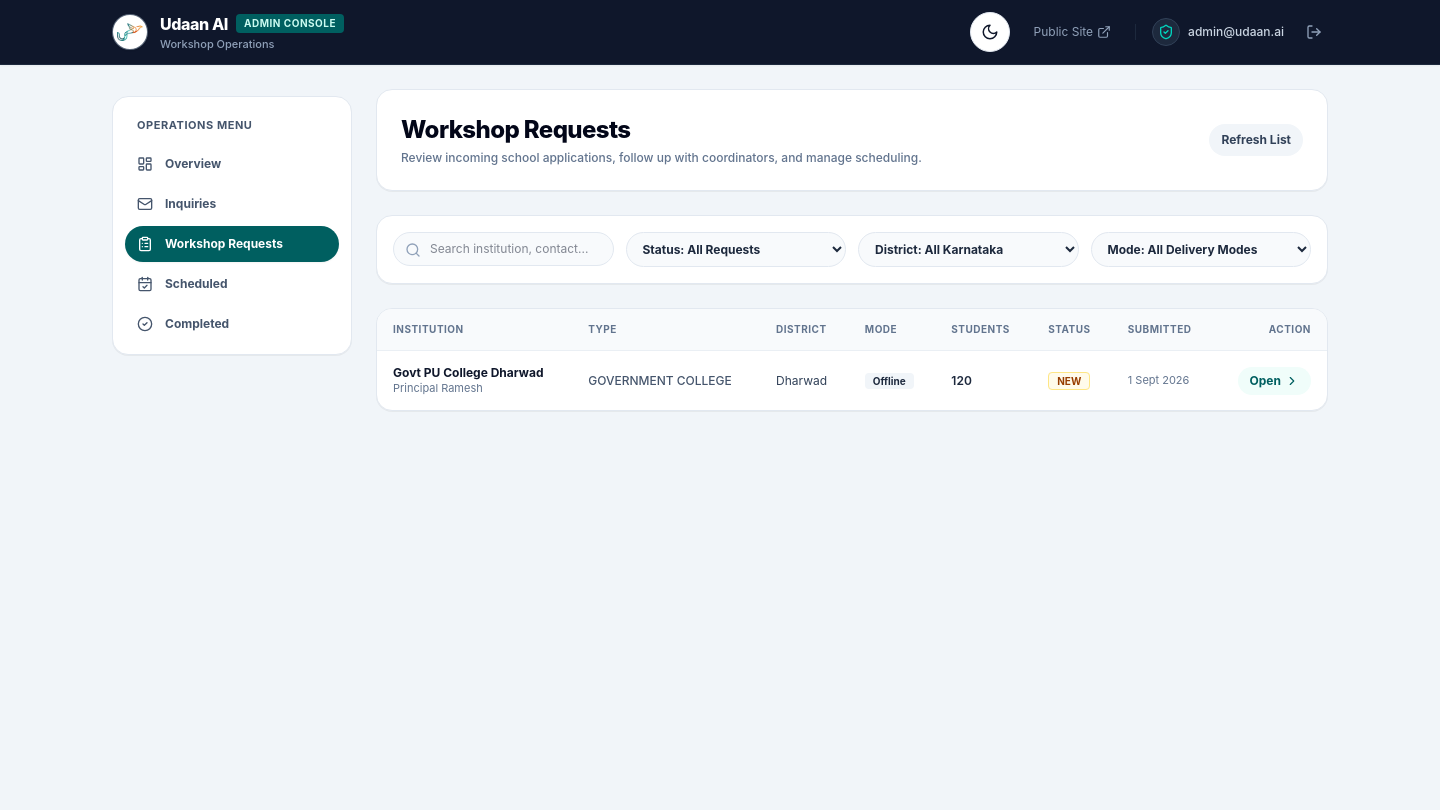
Test case: AdminRequestsPage › Reconciliation matching backend filters (preferred_mode and search) › mode filters on preferred_mode, not schedule.mode
Expected: the text "Govt PU College Dharwad" is shown, [393,365,556,381]
Note: Change mode filter to offline
Select "Offline (In-Person)" in the 3rd dropdown showing "Mode: All Delivery Modes" at (1201, 250), box [1090,232,1311,267]
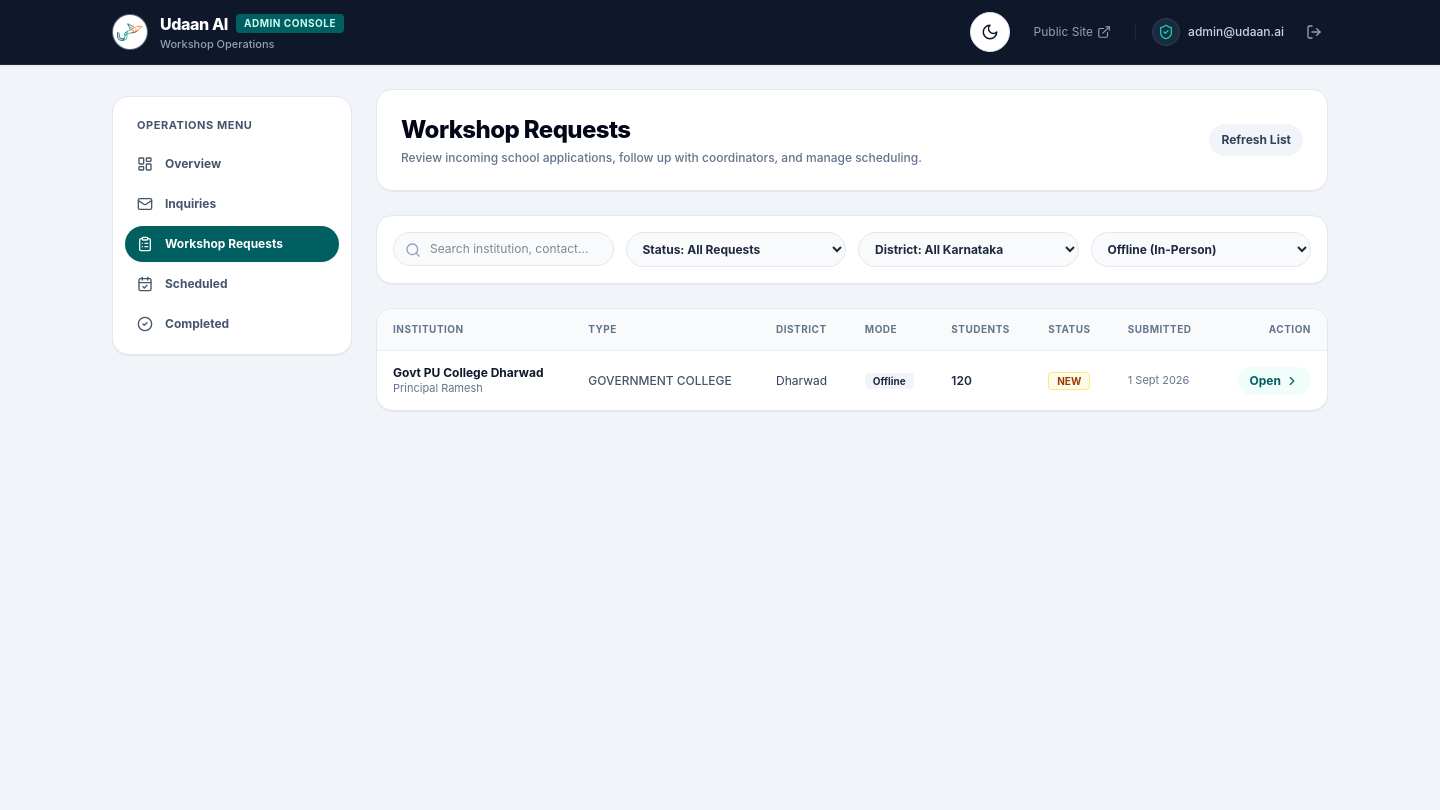
Click the button "Open".
click(1274, 381)  # box [1238,367,1311,395]
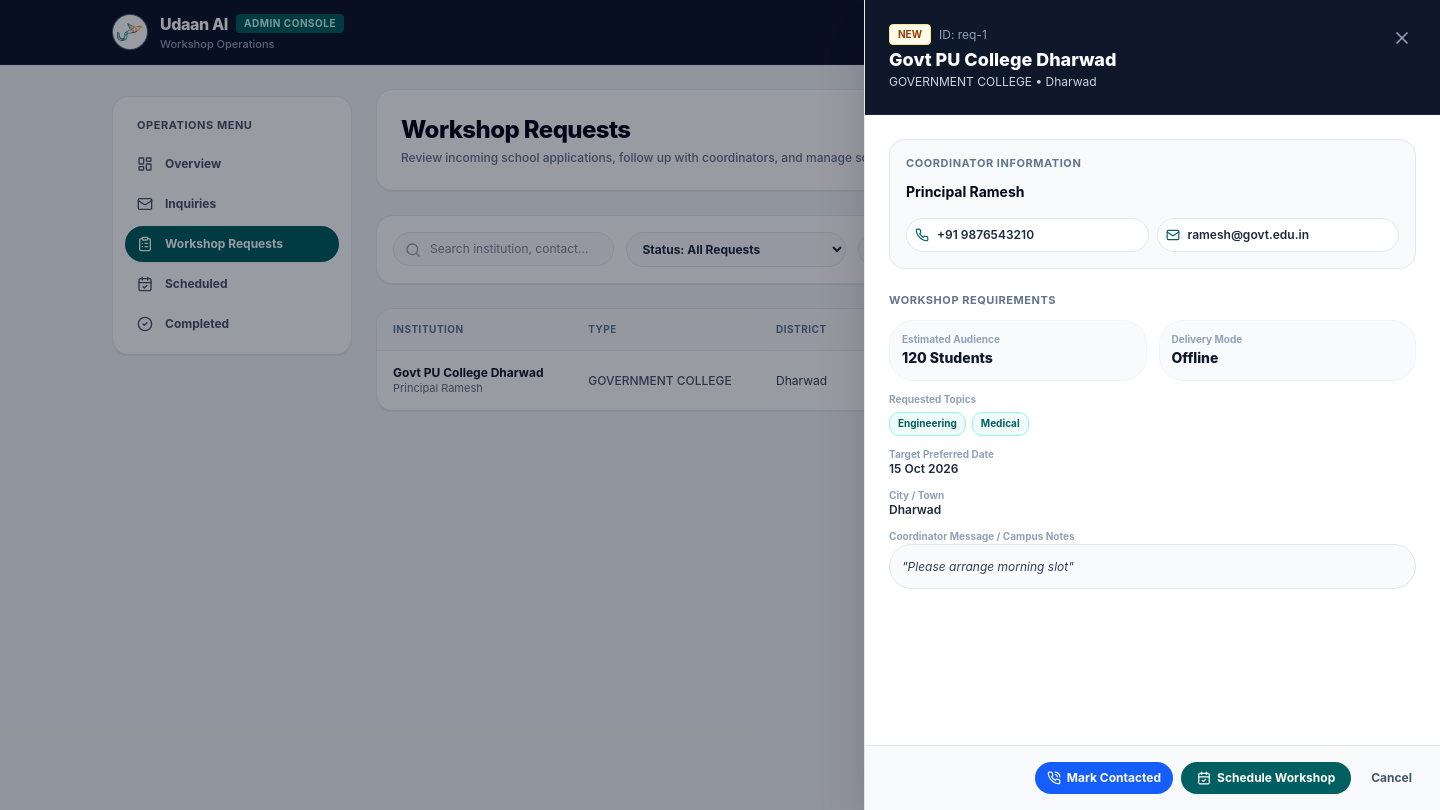
Expected: the text "Coordinator Information" is shown, [906,156,1081,170]
Click the button "Schedule Workshop".
click(1266, 778)  # box [1181,762,1351,794]
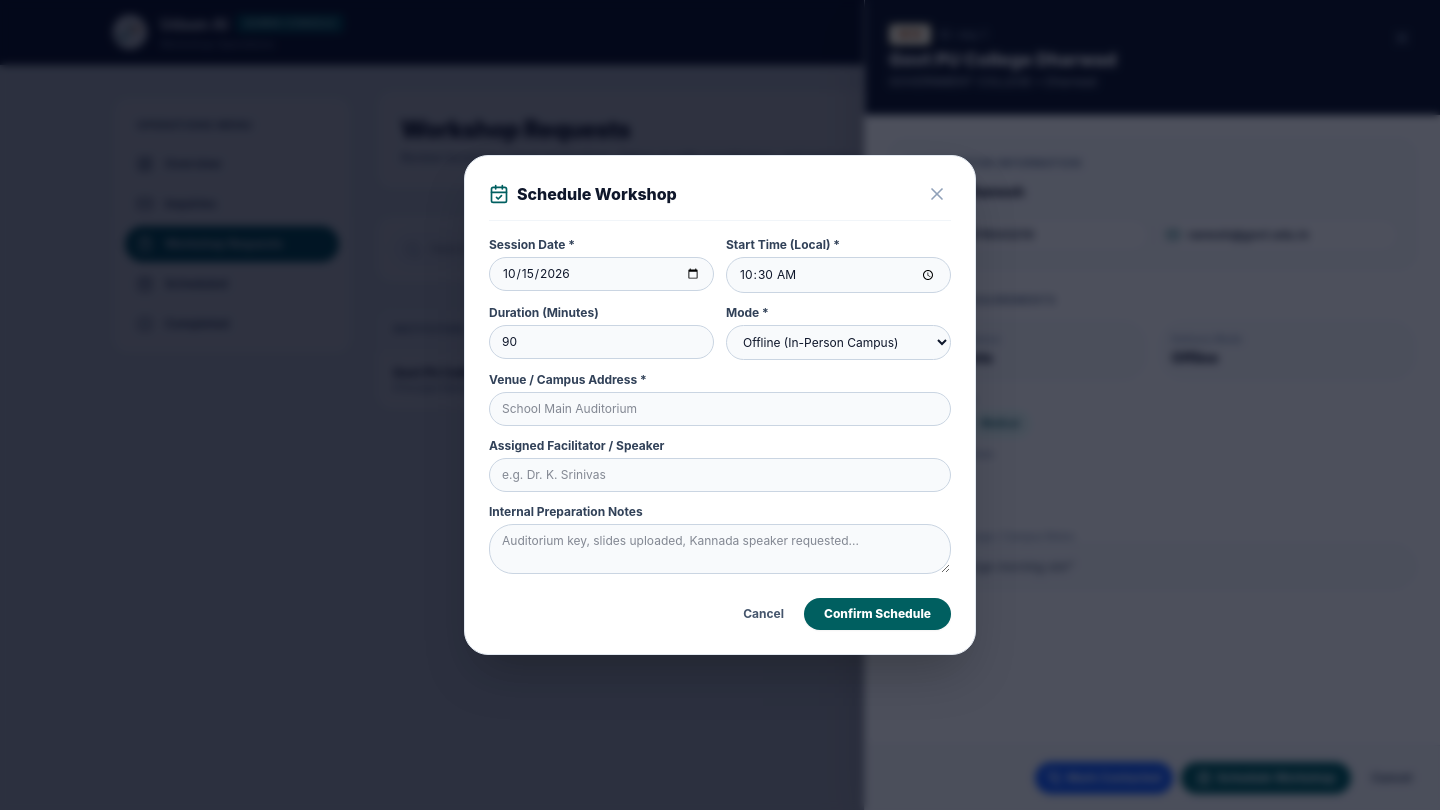
Note: Fill in required venue/meeting link
Type "https://meet.google.com/xyz" into the field with placeholder "School Main Auditorium".
click(720, 409); type("https://meet.google.com/xyz")  # box [489,392,951,426]
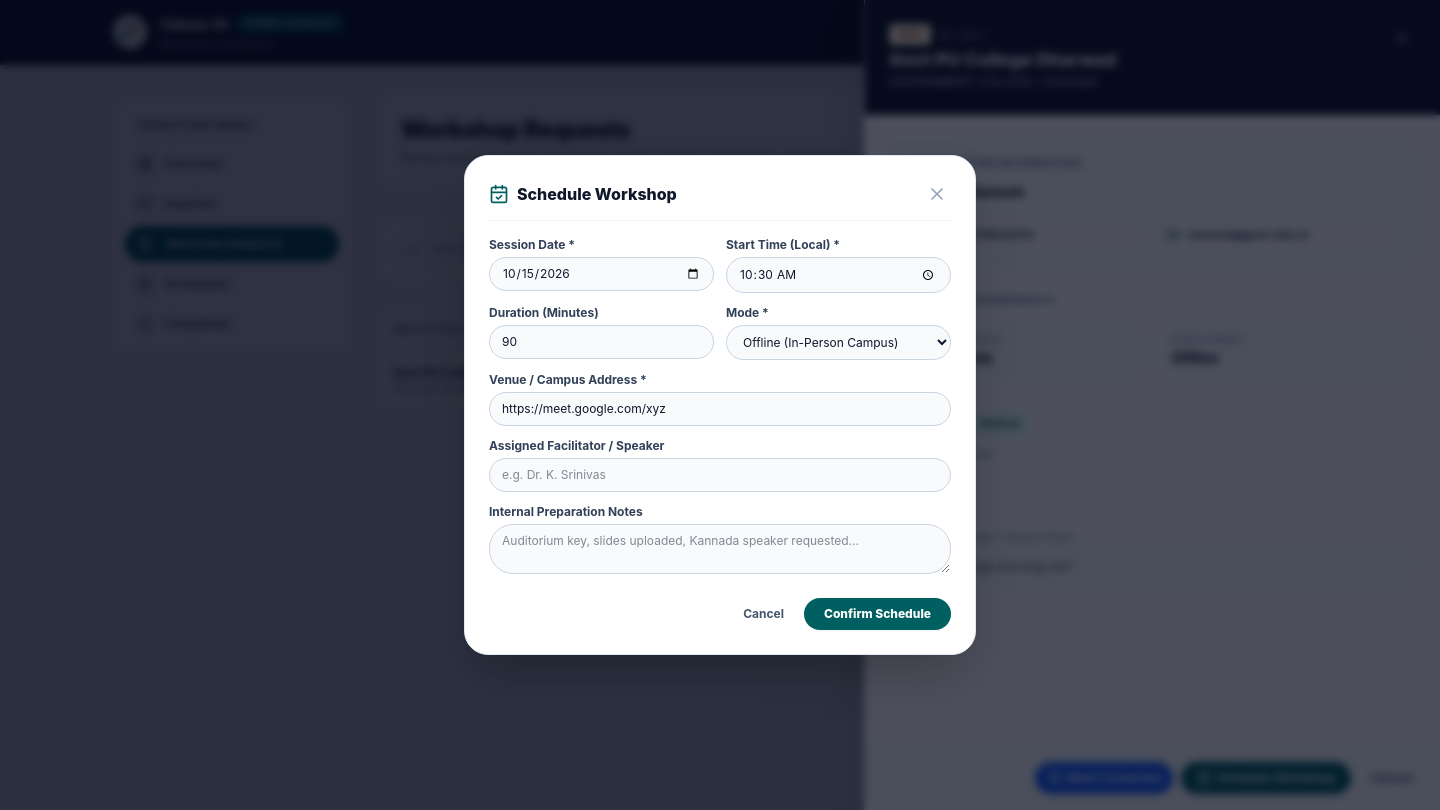
Click the button "Confirm Schedule".
click(878, 614)  # box [804,598,951,630]
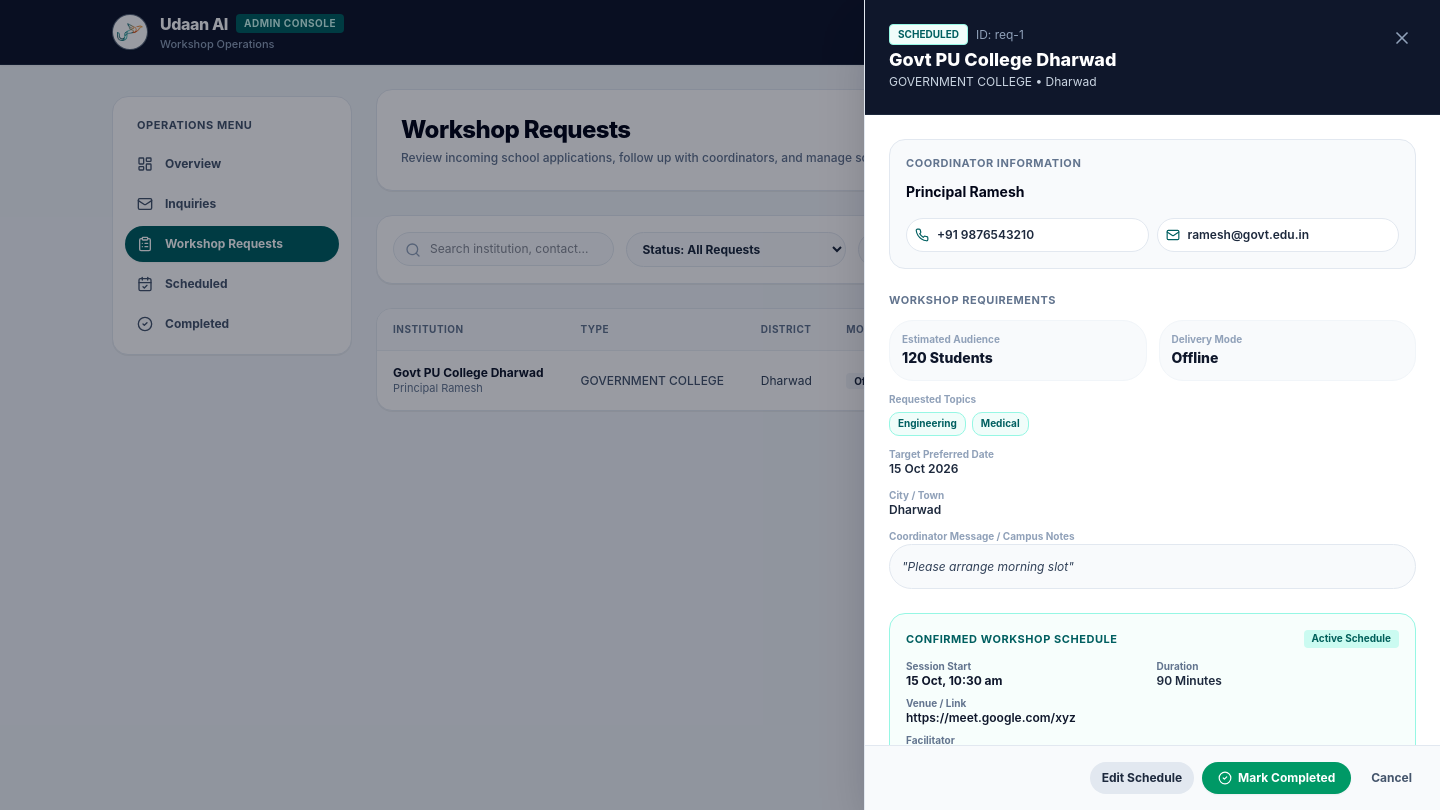
Expected: the text "Govt PU College Dharwad" is shown, [393,365,548,381]
Expected: the button "Schedule Workshop" is gone
